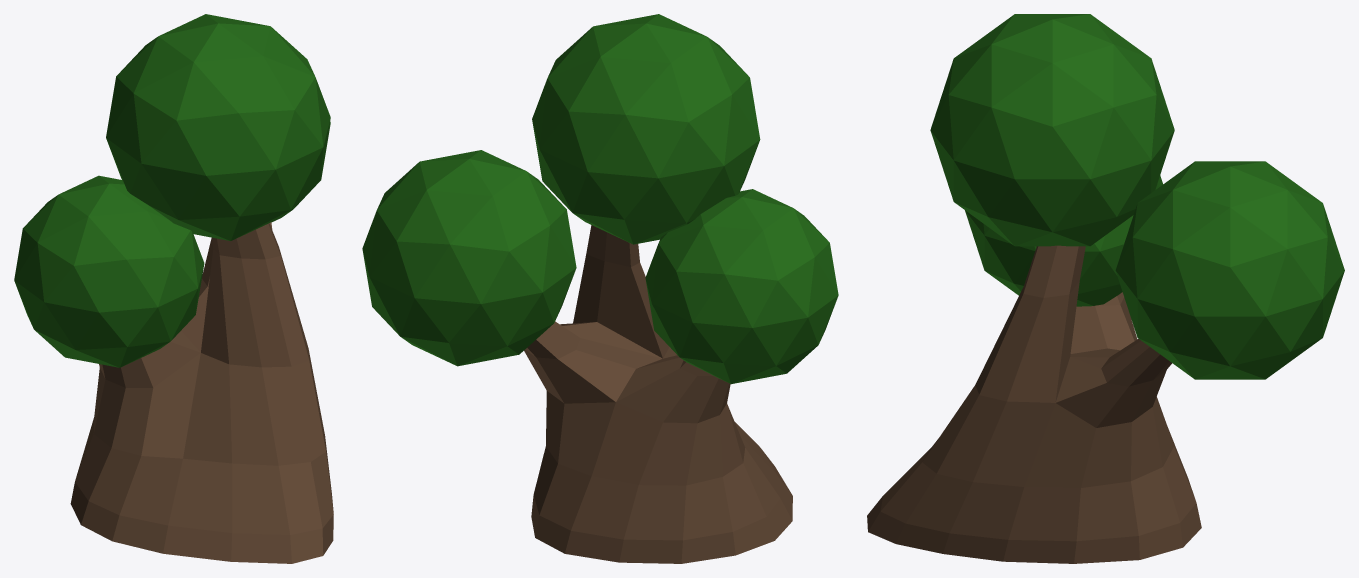
The model's file is Shrub 2.fbx.
3 renders of one model, left to right at view 1: azimuth 30°, elevation 25°; view 2: azimuth 150°, elevation 25°; view 3: azimuth 270°, elevation 25°, orthographic. The views are drawn at different scales.
Visible parts, largest first — view 1: Shrub 2; view 2: Shrub 2; view 3: Shrub 2.
Boxes of the visible parts, bbox=[...] form: Shrub 2: bbox=[14, 14, 333, 563]; Shrub 2: bbox=[362, 14, 838, 563]; Shrub 2: bbox=[867, 14, 1344, 563].
Bounding box in the file's own units: 107 × 136 × 115.
